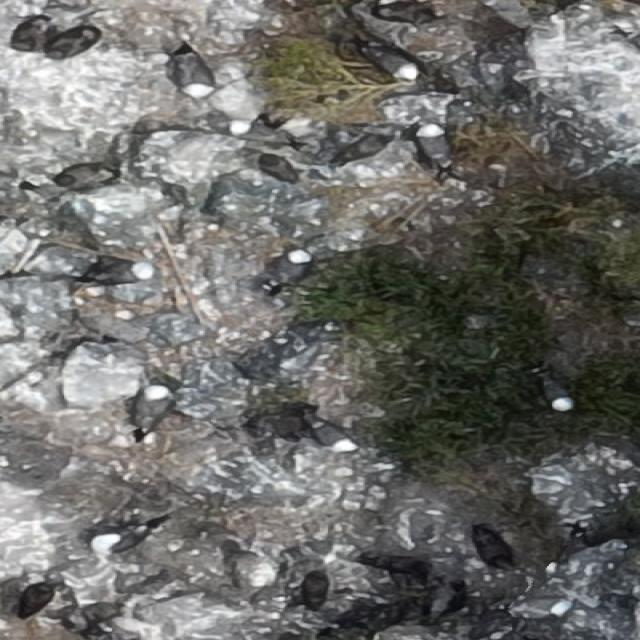umineko: (226, 120, 302, 150), (91, 521, 155, 553), (414, 121, 454, 168), (175, 53, 214, 97), (505, 599, 570, 620), (98, 260, 156, 282), (371, 49, 416, 77), (310, 422, 352, 450), (141, 386, 167, 424), (544, 381, 572, 412), (277, 251, 306, 275)
